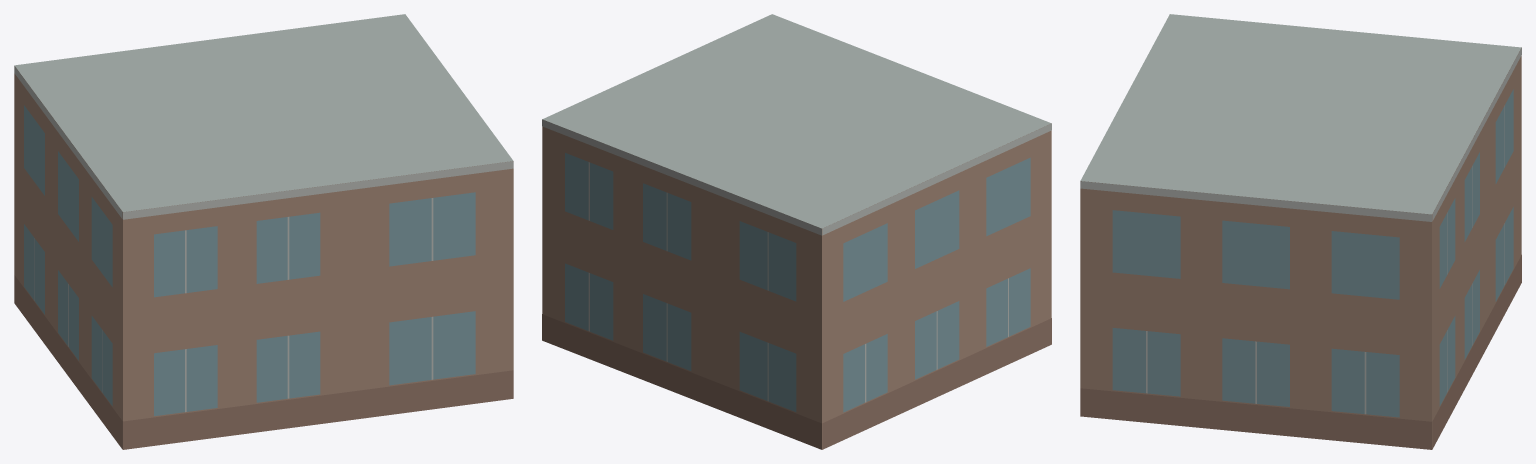
The model's file is survey-upis-32915118.glb.
3 renders of one model, left to right at view 1: azimuth 30°, elevation 25°; view 2: azimuth 150°, elevation 25°; view 3: azimuth 270°, elevation 25°, orthographic. The views are drawn at different scales.
Parts seen in each view (by area): view 1: survey-upis-32915118.tmp; view 2: survey-upis-32915118.tmp; view 3: survey-upis-32915118.tmp.
Boxes of the visible parts, x1,y1,x2,y2 form: survey-upis-32915118.tmp: [14, 14, 513, 449]; survey-upis-32915118.tmp: [542, 14, 1051, 449]; survey-upis-32915118.tmp: [1080, 14, 1521, 449].
Bounding box in the file's own units: 13.89 × 7.6 × 12.93.
